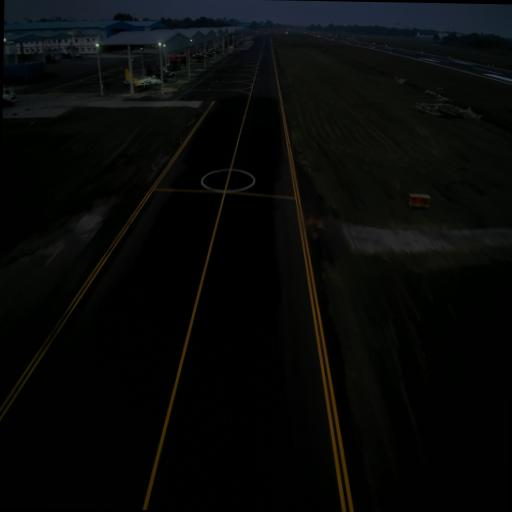on: (151, 162, 155, 168), (308, 166, 311, 173)
